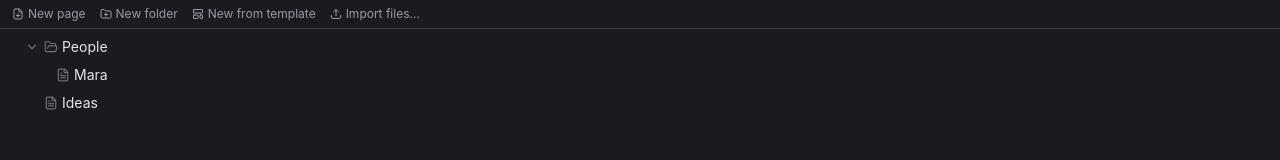
Test case: the Notes tab › collapses a folder from its chevron and deletes from the row’s menu
The image size is (1280, 160).
Click the button named "Collapse People" at (32, 47), box [24,39,40,55]
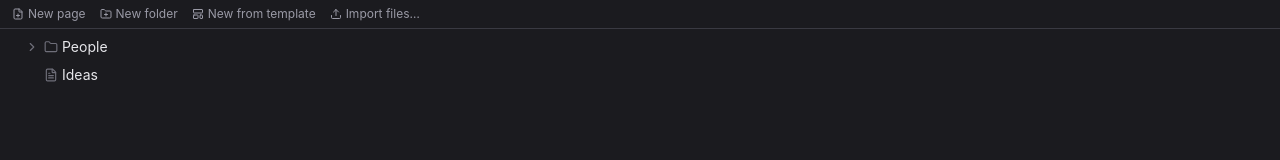
Now the text "Mara" is gone
Right-click the text "Ideas" at (80, 74), box [62,66,98,83]
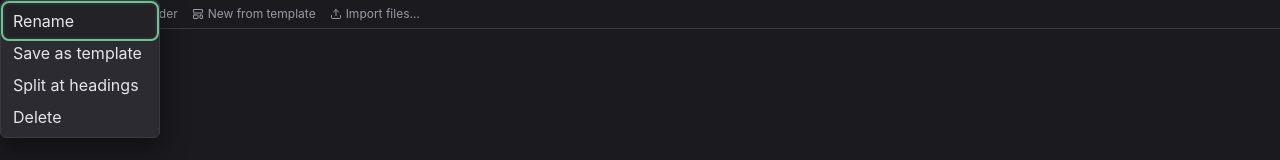
Click the menu item "Delete" at (80, 117), box [5,101,155,133]
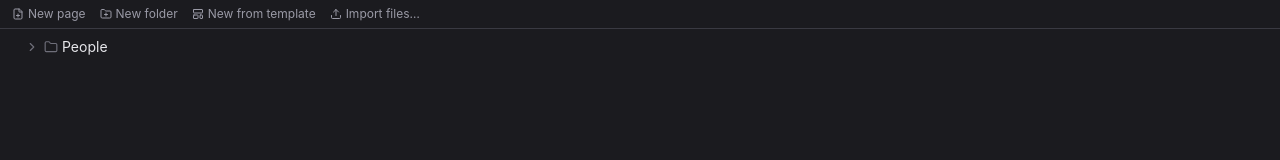
Now the text "Ideas" is gone
